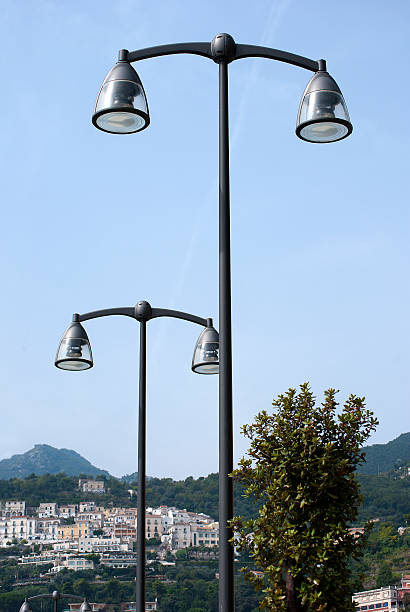light_pole: (212, 72, 237, 612), (134, 322, 152, 612)
